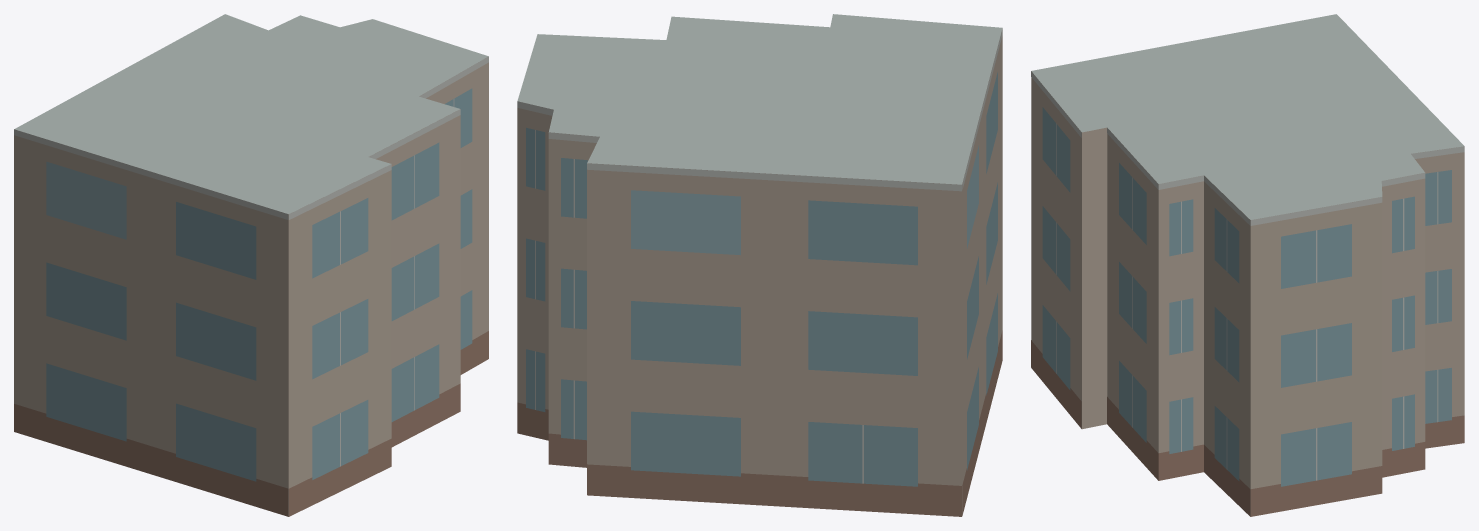
Rendered from survey-upis-32863945.glb.
3 renders of one model, left to right at view 1: azimuth 30°, elevation 25°; view 2: azimuth 150°, elevation 25°; view 3: azimuth 270°, elevation 25°, orthographic. The views are drawn at different scales.
Parts seen in each view (by area): view 1: survey-upis-32863945.tmp; view 2: survey-upis-32863945.tmp; view 3: survey-upis-32863945.tmp.
Boxes of the visible parts, left/top/right/bottom form: survey-upis-32863945.tmp: left=14, top=14, right=488, bottom=516; survey-upis-32863945.tmp: left=517, top=14, right=1002, bottom=516; survey-upis-32863945.tmp: left=1031, top=14, right=1464, bottom=516.
Size of the model in its own units: 18.33 by 12.3 by 16.3.
